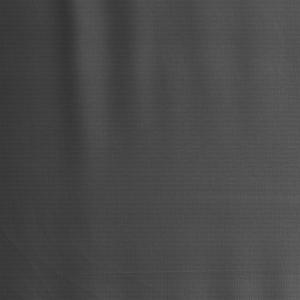Wrinkle: (25, 1, 287, 183), (2, 191, 300, 300)
